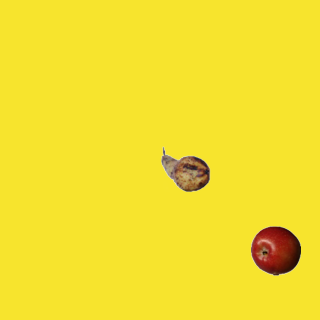Apple Braeburn: (250, 225, 300, 275)
Pear Abate: (160, 144, 210, 194)
